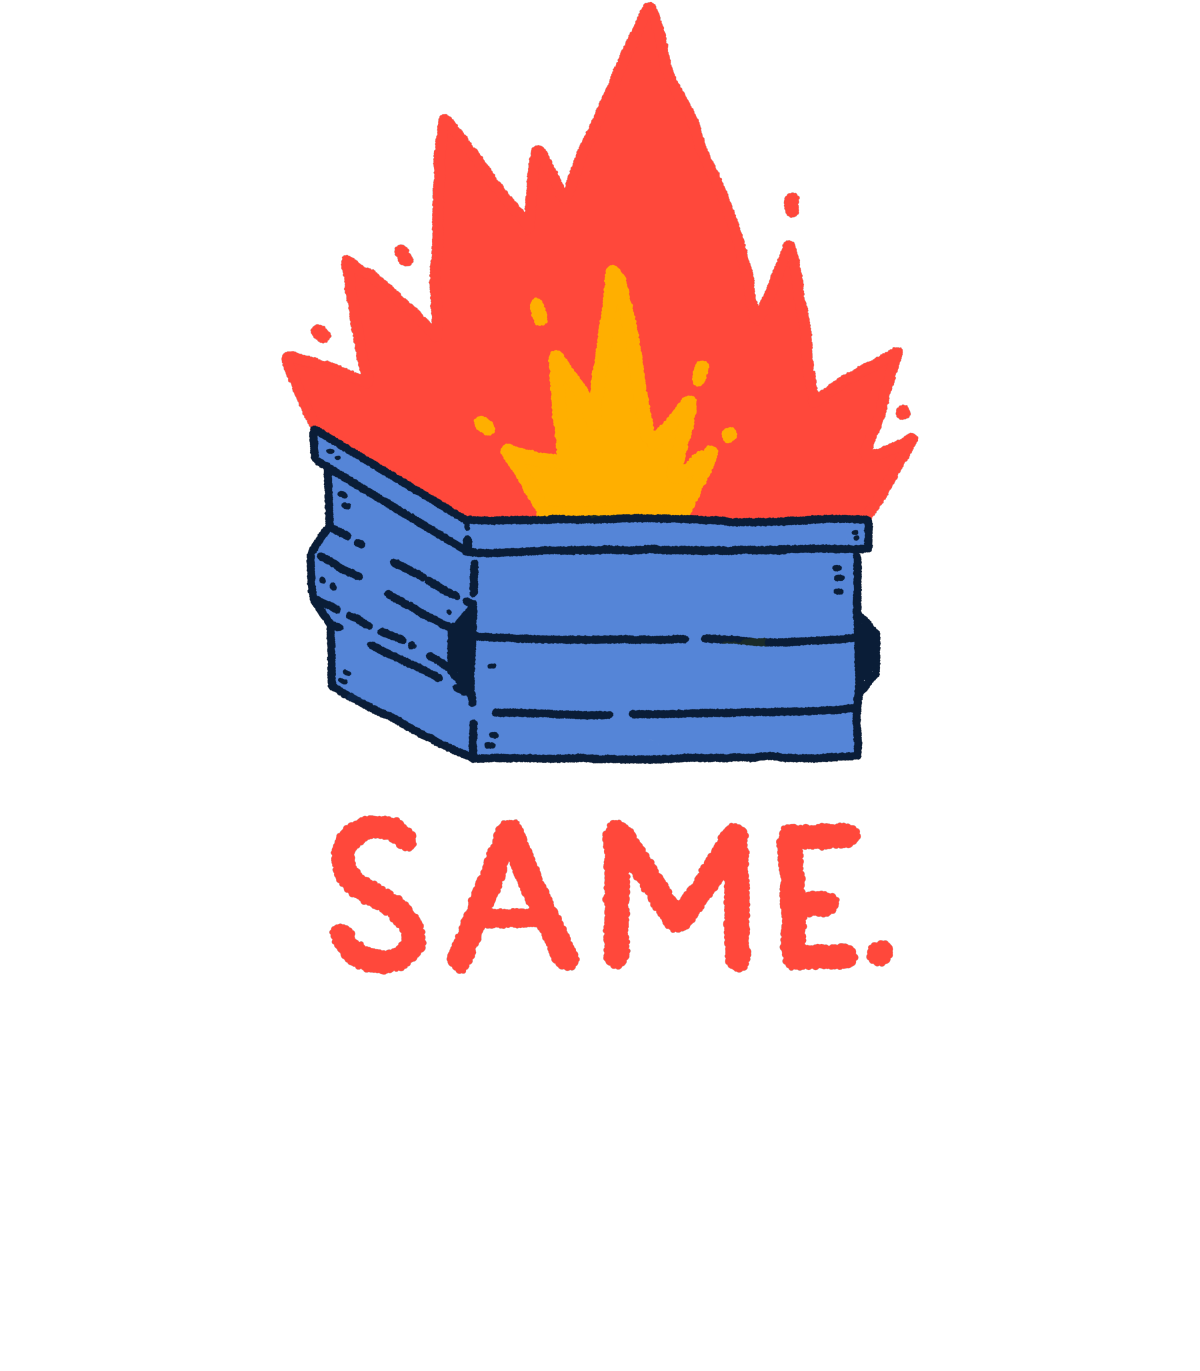design: (250, 1, 929, 1061)
